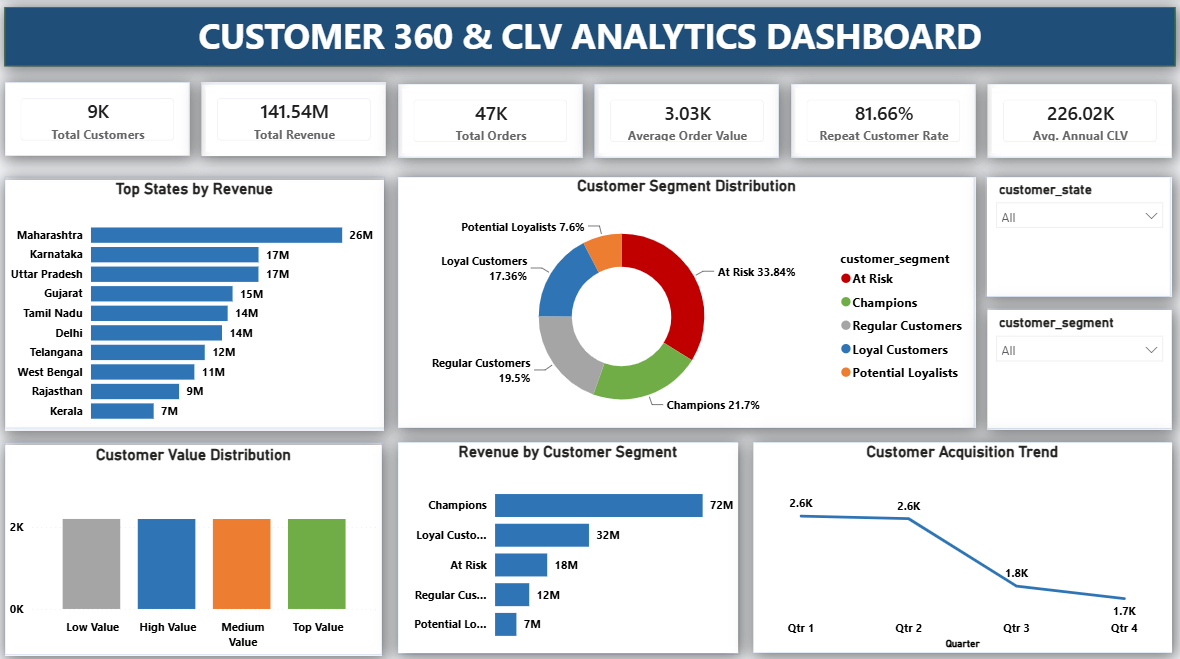

This screenshot's page, from the dashboard's own definition file:
{"tool":"powerbi","page":{"name":"Page 1","canvas":[1280,720],"ordinal":0},"visuals":[{"type":"shape","box":[8,10,1264,64],"z":0},{"type":"textbox","box":[8,10,1264,64],"z":1000},{"type":"shape","box":[8,90,200,80],"z":2000},{"type":"shape","box":[220,92,200,80],"z":3000},{"type":"shape","box":[1068,92,200,80],"z":4000},{"type":"shape","box":[856,92,200,80],"z":5000},{"type":"shape","box":[644,92,200,80],"z":6000},{"type":"shape","box":[432,92,200,80],"z":7000},{"type":"cardVisual","fields":{"Data":["customer_360_final.Total Customers"]},"box":[8,90,200,80],"z":8000},{"type":"cardVisual","fields":{"Data":["customer_360_final.Total Revenue"]},"box":[220,90,200,80],"z":9000},{"type":"cardVisual","fields":{"Data":["customer_360_final.Total Orders"]},"box":[432,92,200,80],"z":10000},{"type":"cardVisual","fields":{"Data":["customer_360_final.Average Order Value"]},"box":[644,92,200,80],"z":11000},{"type":"cardVisual","fields":{"Data":["customer_360_final.Repeat Customer Rate"]},"box":[856,92,200,80],"z":12000},{"type":"cardVisual","fields":{"Data":["customer_360_final.Average Annualized Customer Value"]},"box":[1068,92,200,80],"z":13000},{"type":"shape","box":[8,192,411,272],"z":14000},{"type":"clusteredBarChart","title":"Top States by Revenue","fields":{"Category":["customer_360_final.customer_state"],"Y":["customer_360_final.Total Revenue"]},"box":[8,196,410,272],"z":15000},{"type":"shape","box":[432,192,623,272],"z":16000},{"type":"donutChart","title":"Customer Segment Distribution","fields":{"Category":["customer_360_final.customer_segment"],"Y":["customer_360_final.Total Customers"]},"box":[432,192,624,272],"z":17000},{"type":"shape","box":[8,480,408,230],"z":18000},{"type":"clusteredColumnChart","title":"Customer Value Distribution","fields":{"Category":["customer_360_final.clv_segment"],"Y":["customer_360_final.Total Customers"]},"box":[8,482,408,228],"z":19000},{"type":"shape","box":[432,480,370,230],"z":20000},{"type":"clusteredBarChart","title":"Revenue by Customer Segment","fields":{"Category":["customer_360_final.customer_segment"],"Y":["customer_360_final.Total Revenue"]},"box":[432,480,368,228],"z":21000},{"type":"shape","box":[1067,192,200,130],"z":22000},{"type":"slicer","fields":{"Values":["customer_360_final.customer_state"]},"box":[1068,192,200,130],"z":23000},{"type":"shape","box":[1069,335,200,130],"z":24000},{"type":"slicer","fields":{"Values":["customer_360_final.customer_segment"]},"box":[1069,336,200,130],"z":25000},{"type":"shape","box":[816,480,454,228],"z":25500},{"type":"lineChart","title":"Customer Acquisition Trend","fields":{"Category":["customer_360_final.customer_signup_date.Variation.Date Hierarchy.Year","customer_360_final.customer_signup_date.Variation.Date Hierarchy.Quarter","customer_360_final.customer_signup_date.Variation.Date Hierarchy.Month","customer_360_final.customer_signup_date.Variation.Date Hierarchy.Day"],"Y":["CountNonNull(customer_360_final.customer_id)"]},"box":[816,480,452,228],"z":26000}]}

Visuals, with their boxes in screenshot pixels (x1, y1, x2, y2), scaled from the page's 1280x720 canvas onto the 1180x659 screenshot:
shape: x1=7 y1=9 x2=1173 y2=68
textbox: x1=7 y1=9 x2=1173 y2=68
shape: x1=7 y1=82 x2=192 y2=156
shape: x1=203 y1=84 x2=387 y2=157
shape: x1=985 y1=84 x2=1169 y2=157
shape: x1=789 y1=84 x2=974 y2=157
shape: x1=594 y1=84 x2=778 y2=157
shape: x1=398 y1=84 x2=583 y2=157
cardVisual - customer_360_final.Total Customers: x1=7 y1=82 x2=192 y2=156
cardVisual - customer_360_final.Total Revenue: x1=203 y1=82 x2=387 y2=156
cardVisual - customer_360_final.Total Orders: x1=398 y1=84 x2=583 y2=157
cardVisual - customer_360_final.Average Order Value: x1=594 y1=84 x2=778 y2=157
cardVisual - customer_360_final.Repeat Customer Rate: x1=789 y1=84 x2=974 y2=157
cardVisual - customer_360_final.Average Annualized Customer Value: x1=985 y1=84 x2=1169 y2=157
shape: x1=7 y1=176 x2=386 y2=425
"Top States by Revenue" clusteredBarChart: x1=7 y1=179 x2=385 y2=428
shape: x1=398 y1=176 x2=973 y2=425
"Customer Segment Distribution" donutChart: x1=398 y1=176 x2=974 y2=425
shape: x1=7 y1=439 x2=384 y2=650
"Customer Value Distribution" clusteredColumnChart: x1=7 y1=441 x2=384 y2=650
shape: x1=398 y1=439 x2=739 y2=650
"Revenue by Customer Segment" clusteredBarChart: x1=398 y1=439 x2=738 y2=648
shape: x1=984 y1=176 x2=1168 y2=295
slicer - customer_360_final.customer_state: x1=985 y1=176 x2=1169 y2=295
shape: x1=985 y1=307 x2=1170 y2=426
slicer - customer_360_final.customer_segment: x1=985 y1=308 x2=1170 y2=427
shape: x1=752 y1=439 x2=1171 y2=648
"Customer Acquisition Trend" lineChart: x1=752 y1=439 x2=1169 y2=648
